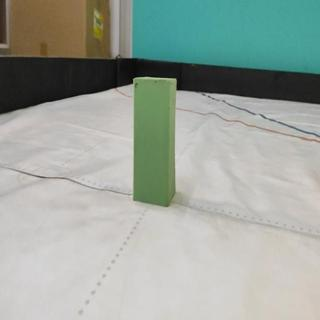greenbox: (134, 78, 176, 209)
